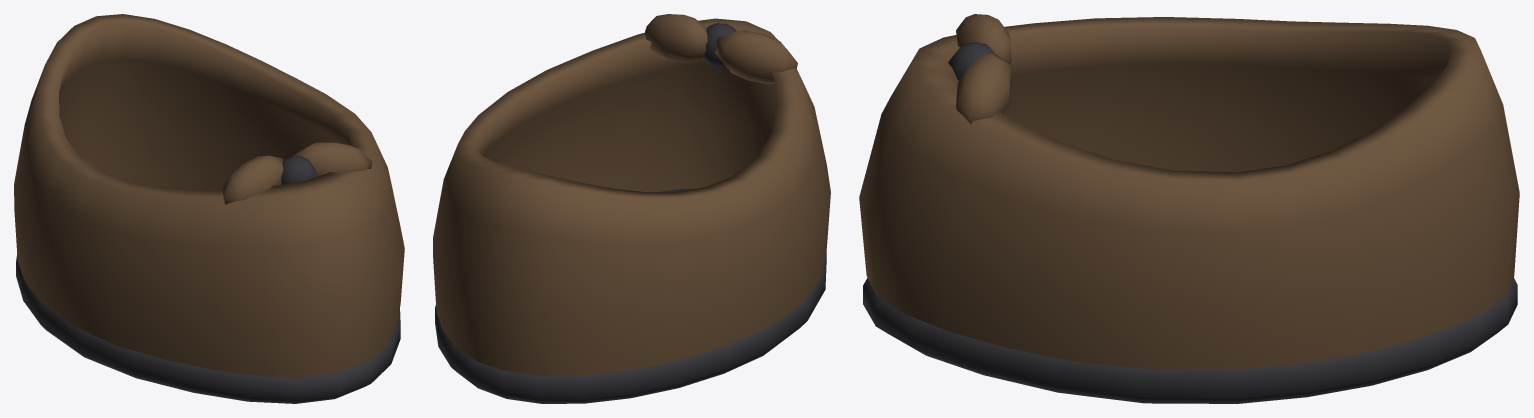
File: calzado_bailarinas.glb
3 renders of one model, left to right at view 1: azimuth 30°, elevation 25°; view 2: azimuth 150°, elevation 25°; view 3: azimuth 270°, elevation 25°, orthographic. The views are drawn at different scales.
Visible parts, largest first — view 1: pieza; view 2: pieza; view 3: pieza.
Part boxes in pixels (x1,y1,x2,y2): pieza: (14, 14, 404, 403); pieza: (433, 14, 830, 403); pieza: (859, 14, 1519, 403).
Size of the model in its own units: 0.2588 by 0.172 by 0.3774.
